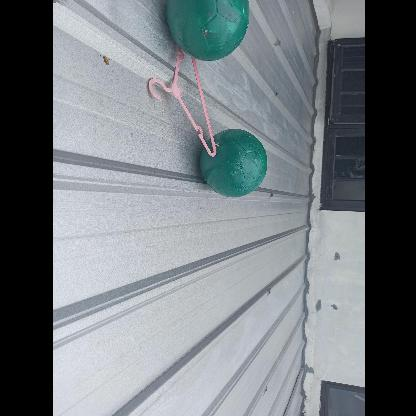green_ball: (199, 129, 269, 199)
